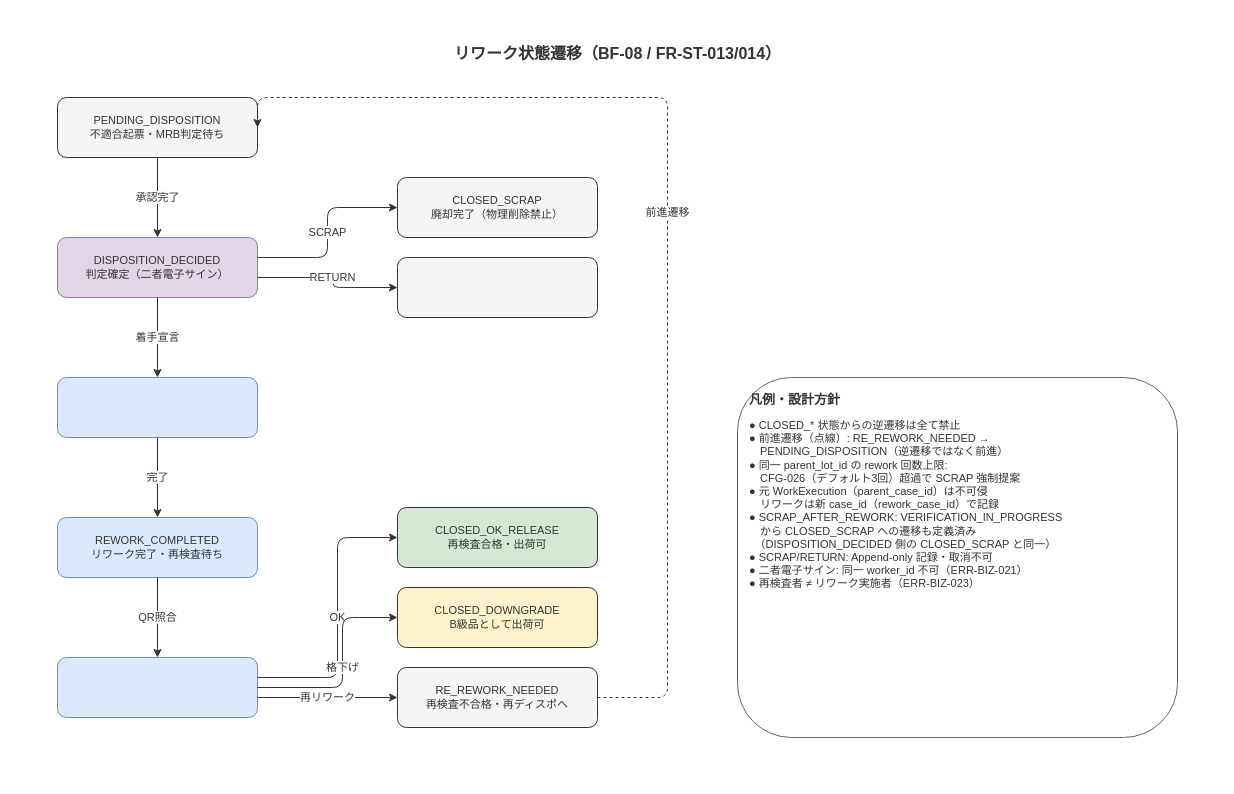
This 1234x794 diagram has some shape labels left out. Each missing label, with the centre of its shape:
CLOSED_RETURN 仕入先返却完了: the point at 497,287
REWORK_IN_PROGRESS リワーク作業中（新case_id）: the point at 157,407
VERIFICATION_IN_PROGRESS 再検査中（別worker_id必須）: the point at 157,687
